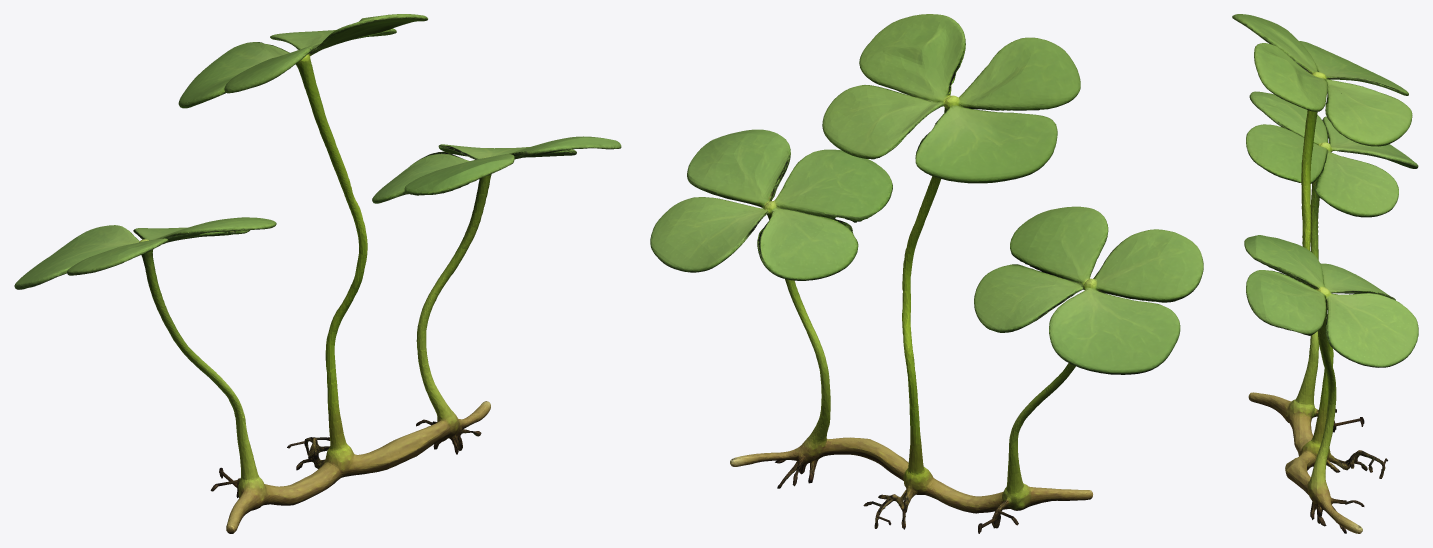
3 views of the same model, side by side, from view 1: azimuth 30°, elevation 25°; view 2: azimuth 150°, elevation 25°; view 3: azimuth 270°, elevation 25° (orthographic). The views are drawn at different scales.
Parts seen in each view (by area): view 1: world; view 2: world; view 3: world.
Part boxes in pixels (box(x1,y1,x2,y2)): world: box(14, 14, 621, 533); world: box(650, 14, 1203, 533); world: box(1232, 14, 1418, 533).
Bounding box in the file's own units: 1 × 0.8625 × 0.3378.
2 materials, 2 textured.
